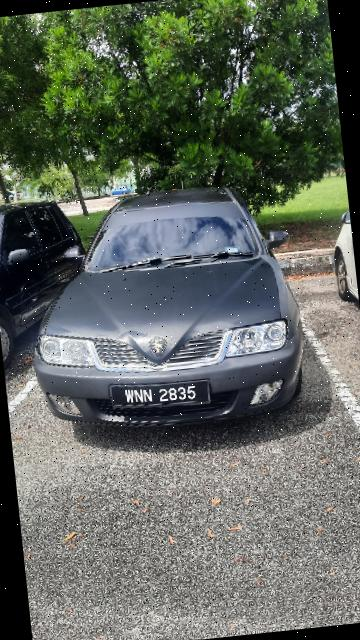License_Plate: (107, 374, 215, 418)
car: (16, 171, 317, 447)
